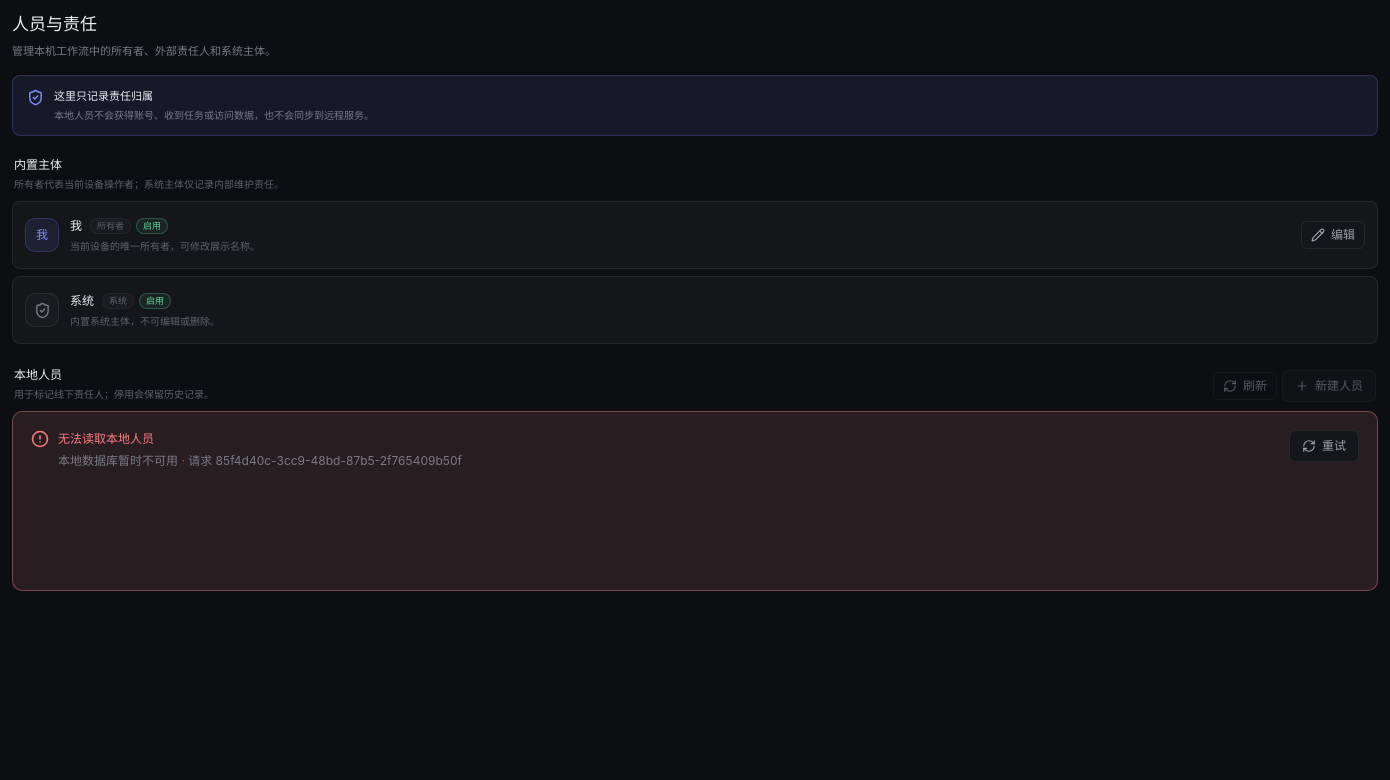
it: ActorSettings › keeps built-ins visible while the initial person request fails and retries the real page
The image size is (1390, 780).
Check: the text "无法读取本地人员" is shown, box [58,431,154,446]
Check: the button with aria-label "编辑我" is shown, box [1301,221,1365,249]
Click the button "重试" at (1324, 446), box [1289,430,1359,462]
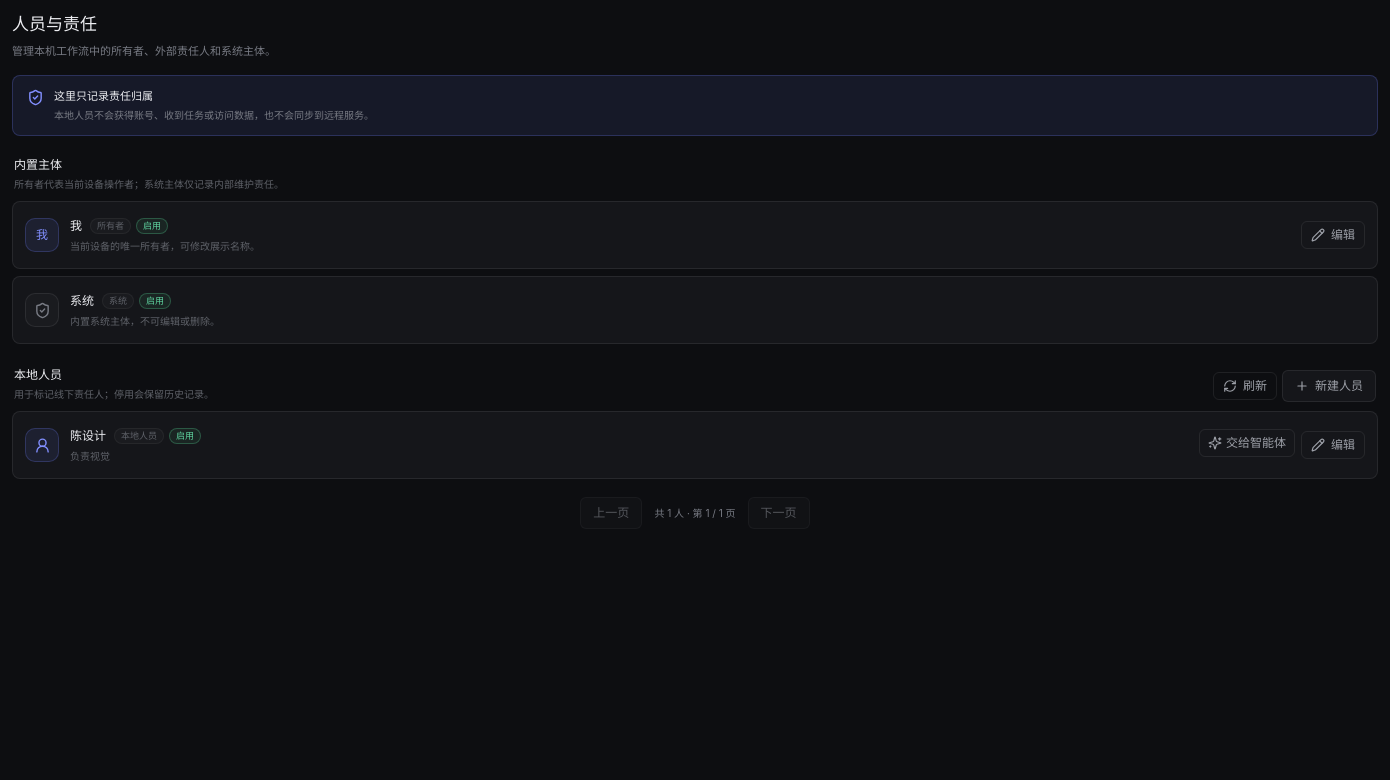
Check: the text "陈设计" is shown, box [70,427,106,445]
